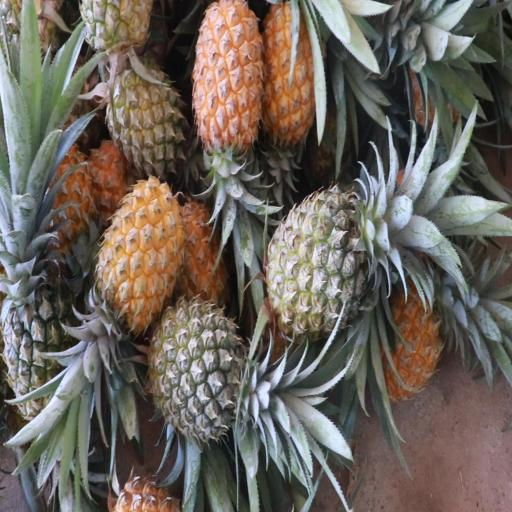Pineapple - v8 v1: (80, 179, 185, 366), (193, 0, 265, 213), (264, 0, 320, 163)
